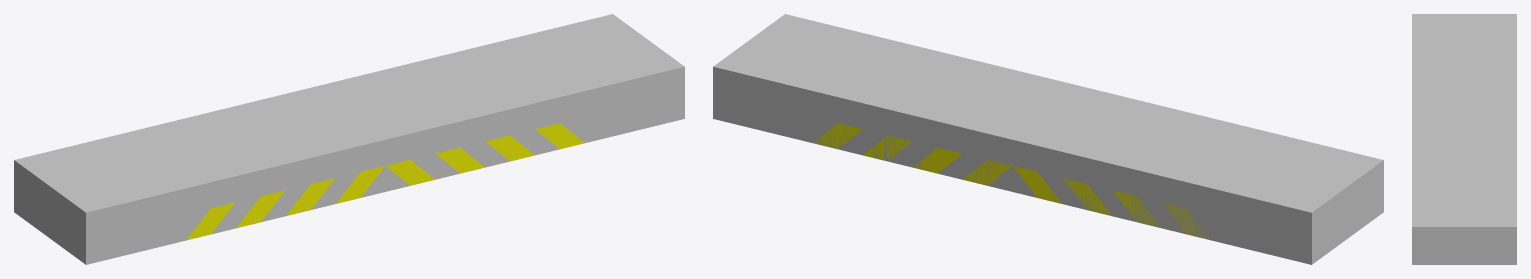
Rendered from blok.glb.
3 views of the same model, side by side, from view 1: azimuth 30°, elevation 25°; view 2: azimuth 150°, elevation 25°; view 3: azimuth 270°, elevation 25° (orthographic). The views are drawn at different scales.
Visible parts, largest first — view 1: blok; view 2: blok; view 3: blok.
Boxes of the visible parts, box(x1,y1,x2,y2) form: blok: box(14, 14, 684, 264); blok: box(713, 14, 1383, 264); blok: box(1412, 14, 1516, 264).
Bounding box in the file's own units: 16.8 × 1.4 × 3.5.
